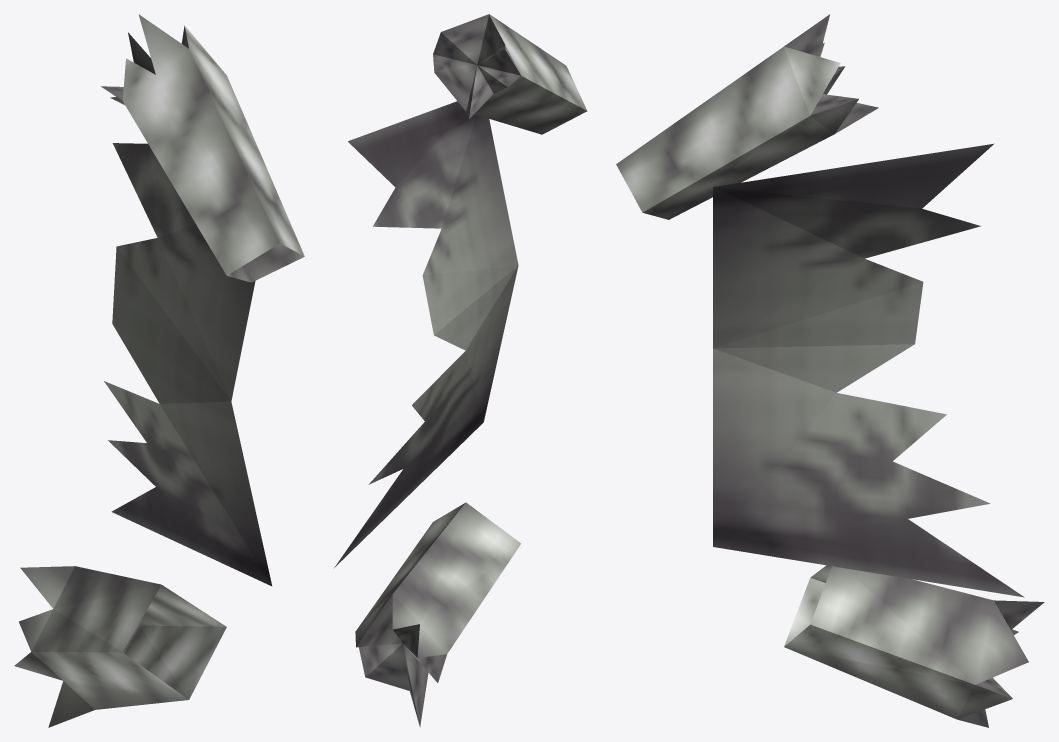
3 renders of one model, left to right at view 1: azimuth 30°, elevation 25°; view 2: azimuth 150°, elevation 25°; view 3: azimuth 270°, elevation 25°, orthographic. The views are drawn at different scales.
Visible parts, largest first — view 1: B_0106_3b_0; view 2: B_0106_3b_0; view 3: B_0106_3b_0.
Part boxes in pixels (box(x1,y1,x2,y2)): B_0106_3b_0: box(14, 14, 304, 727); B_0106_3b_0: box(334, 14, 587, 727); B_0106_3b_0: box(616, 14, 1044, 727).
Size of the model in its own units: 0.5653 by 3.76 by 2.04.
Materials: 1 (1 with a texture image).
